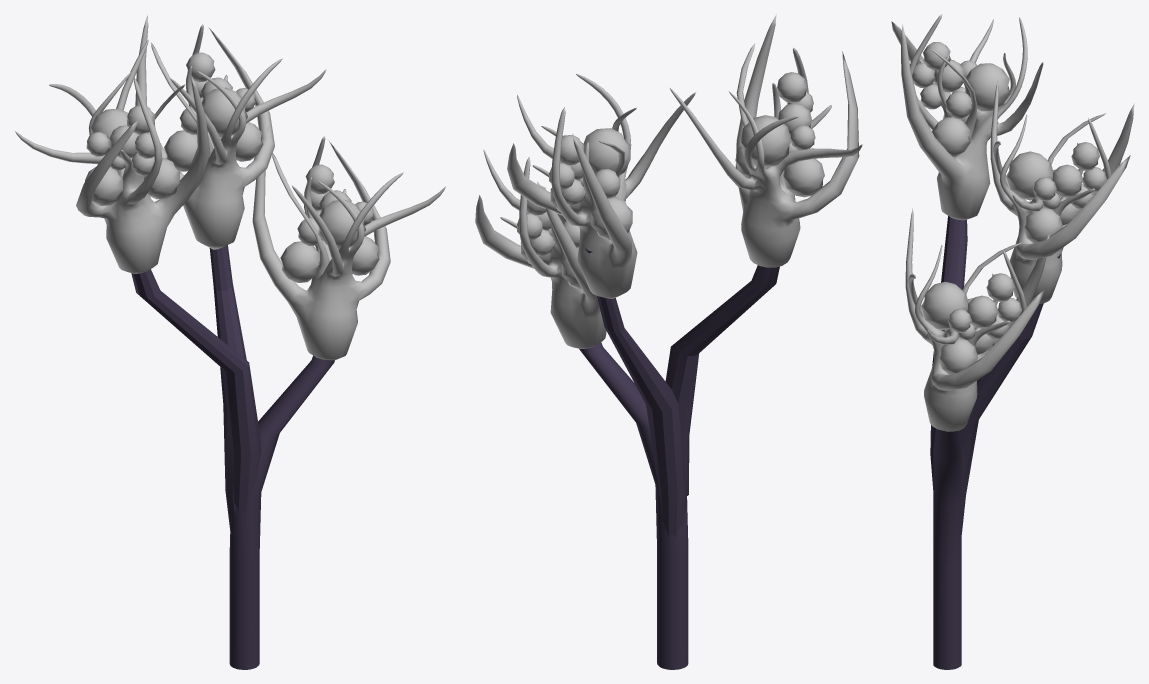
Rendered from Village_Flower.fbx.
3 renders of one model, left to right at view 1: azimuth 30°, elevation 25°; view 2: azimuth 150°, elevation 25°; view 3: azimuth 270°, elevation 25°, orthographic. The views are drawn at different scales.
Visible parts, largest first — view 1: TreeTrunk, stem.002, TreeBall10.002; view 2: TreeTrunk, stem.002, TreeBall10.002; view 3: TreeTrunk, TreeBall10.002, stem.002.
Part boxes in pixels (x1=…): TreeTrunk: x1=15, y1=15, x2=445, y2=360; stem.002: x1=131, y1=245, x2=334, y2=669; TreeBall10.002: x1=85, y1=52, x2=379, y2=282; TreeTrunk: x1=475, y1=14, x2=862, y2=348; stem.002: x1=579, y1=248, x2=779, y2=669; TreeBall10.002: x1=517, y1=72, x2=824, y2=289; TreeTrunk: x1=891, y1=14, x2=1134, y2=431; TreeBall10.002: x1=912, y1=42, x2=1107, y2=374; stem.002: x1=930, y1=216, x2=1060, y2=669.
Size of the model in its own units: 435 by 651 by 238.
